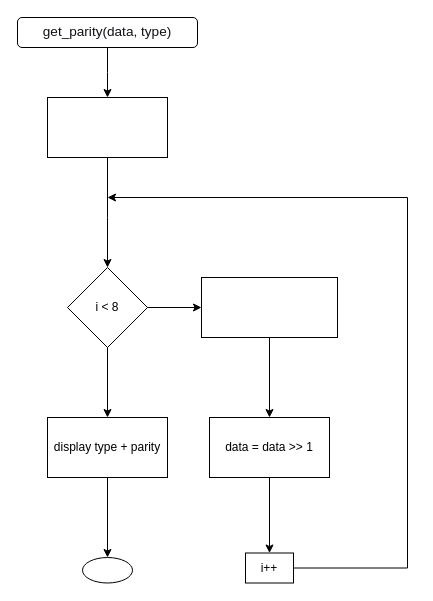
This 433x601 diagram has some shape labels left out. The centre of each missing label's shape, as x and y in pixels:
"end" goes at (107,569).
"parity = 0 i=0" goes at (107,127).
"parity ^= (data & 0x01)" goes at (269,307).
